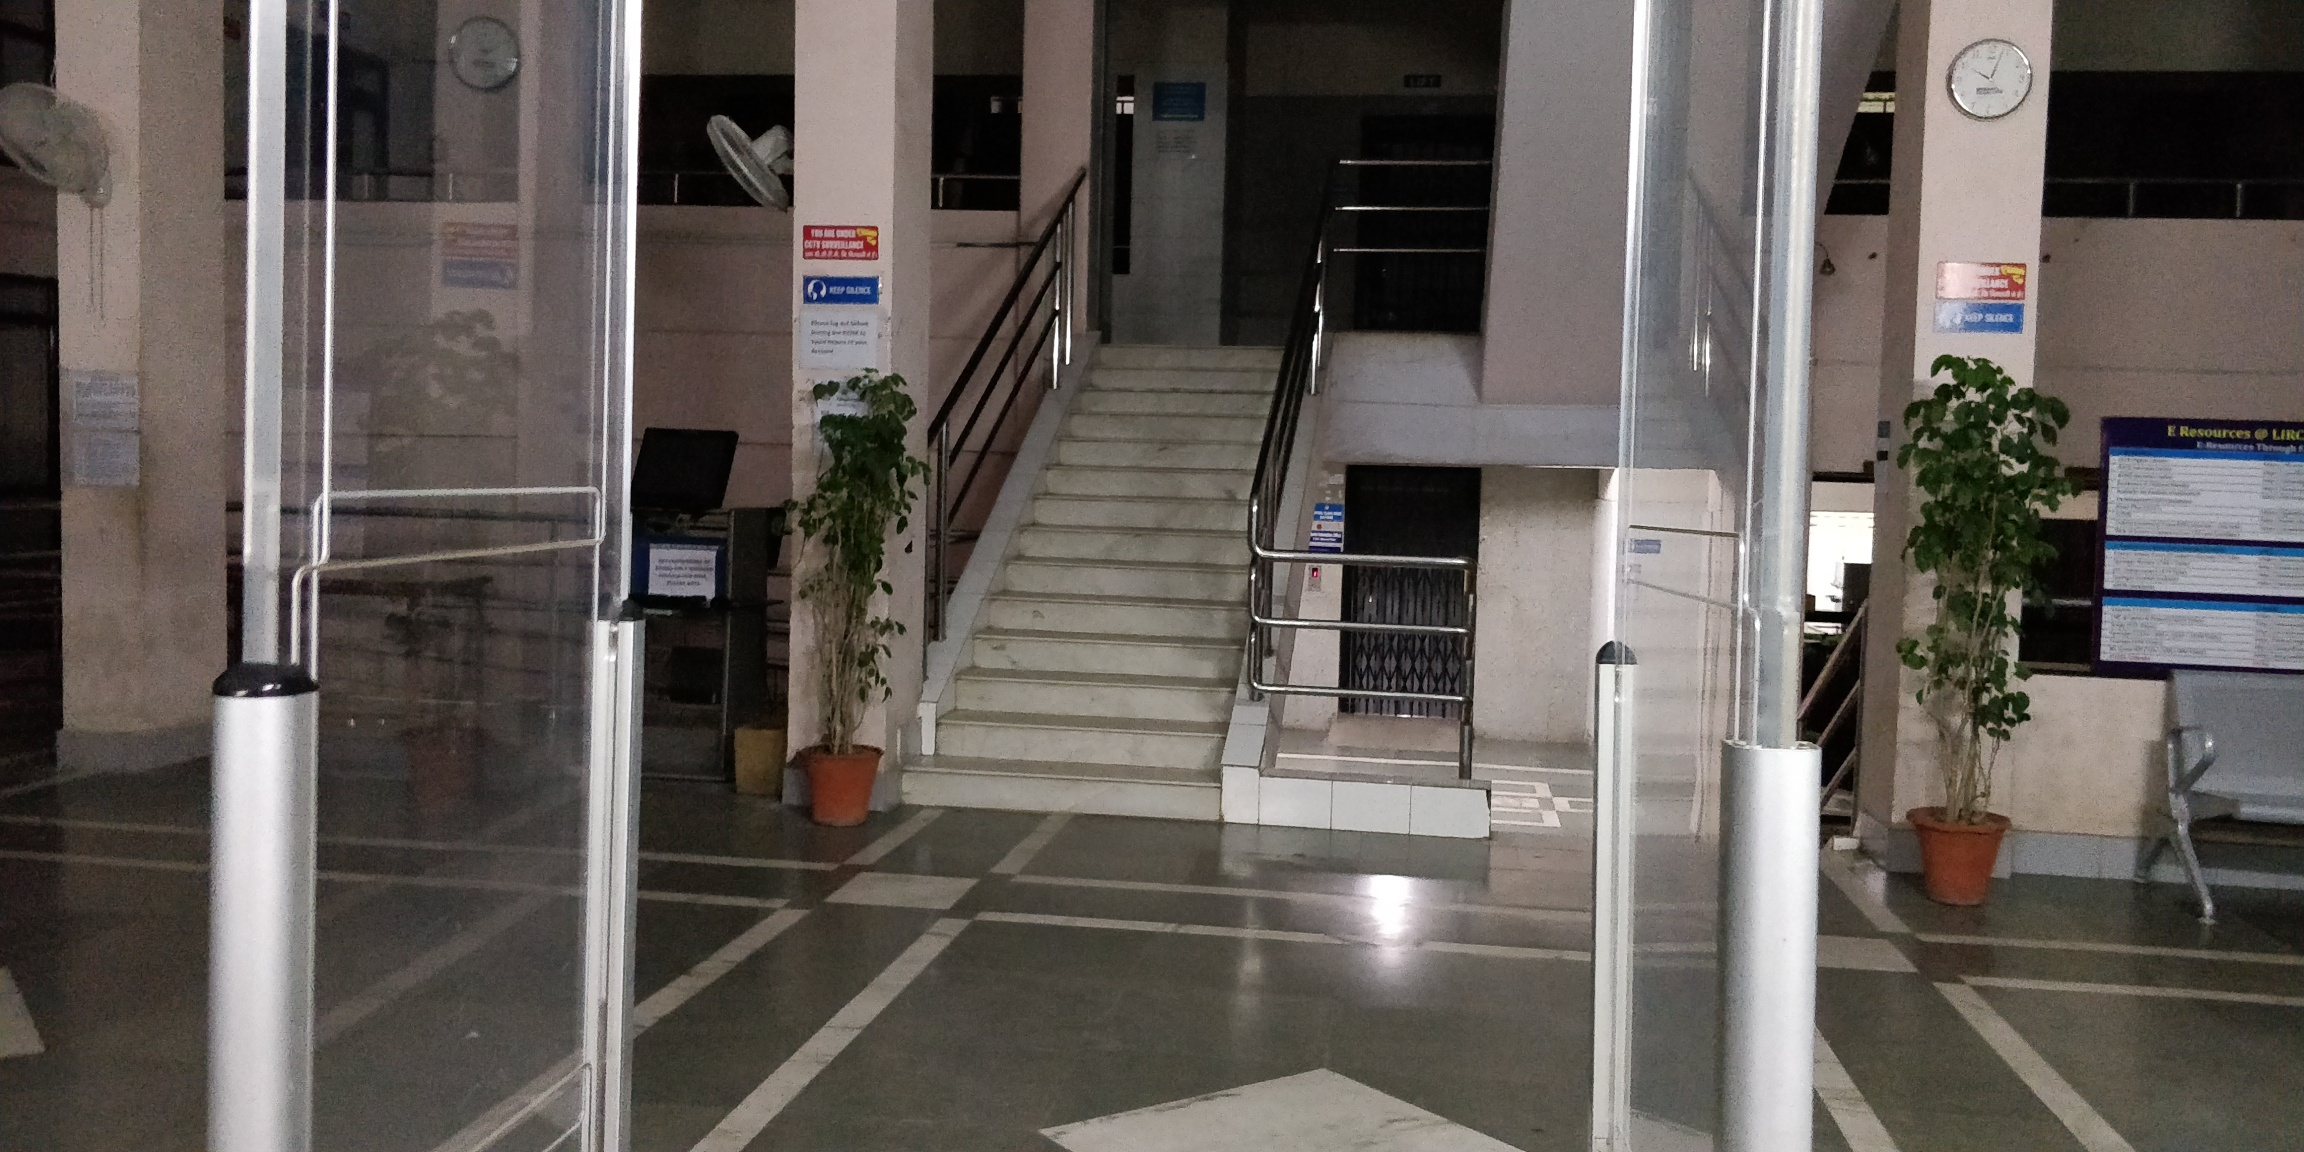stairs_up: (902, 326, 1292, 842)
